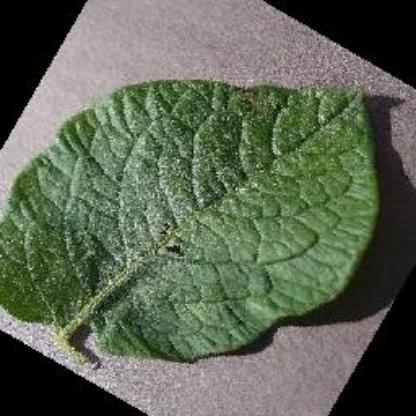Healthy-plant: (13, 50, 380, 376)
